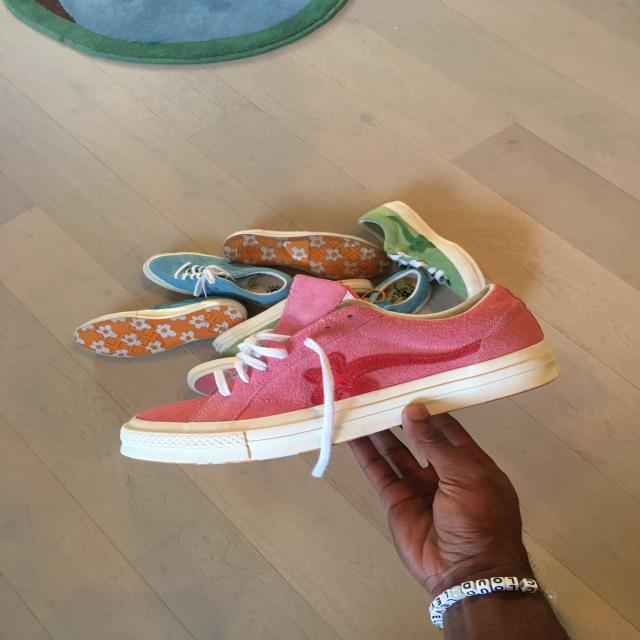shoe: (118, 287, 565, 466), (358, 201, 489, 293), (222, 226, 382, 278), (76, 305, 234, 357), (134, 254, 288, 304)
